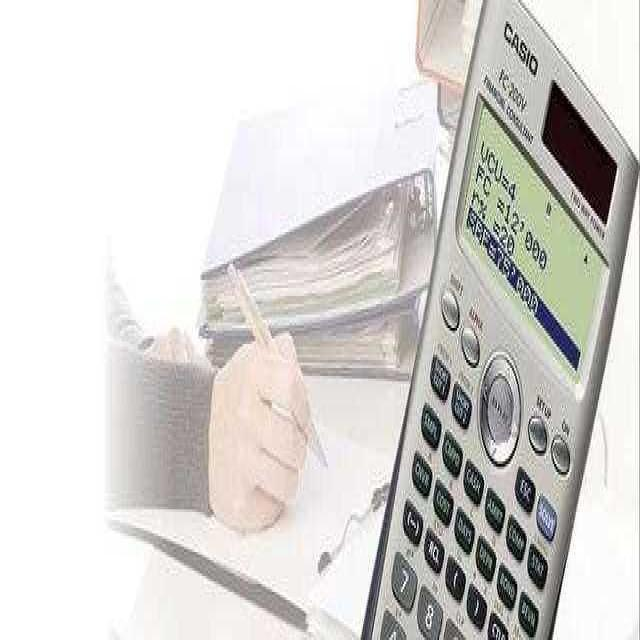Calculator: (358, 0, 639, 637)
